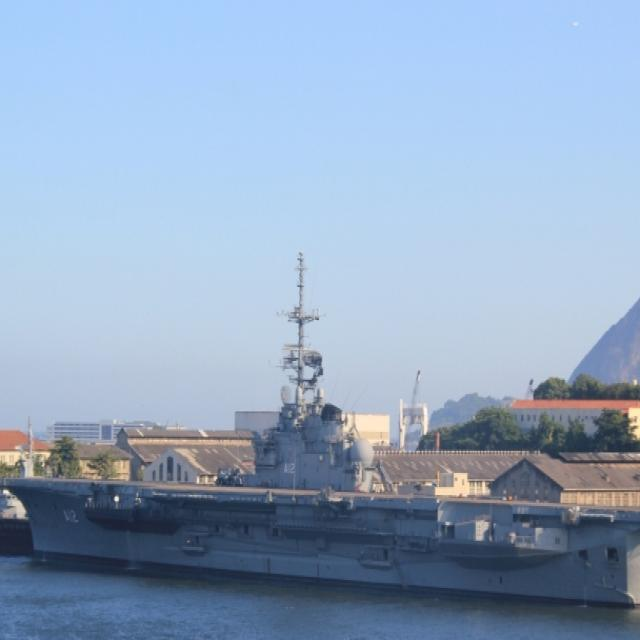Portanaves: (1, 241, 640, 617)
